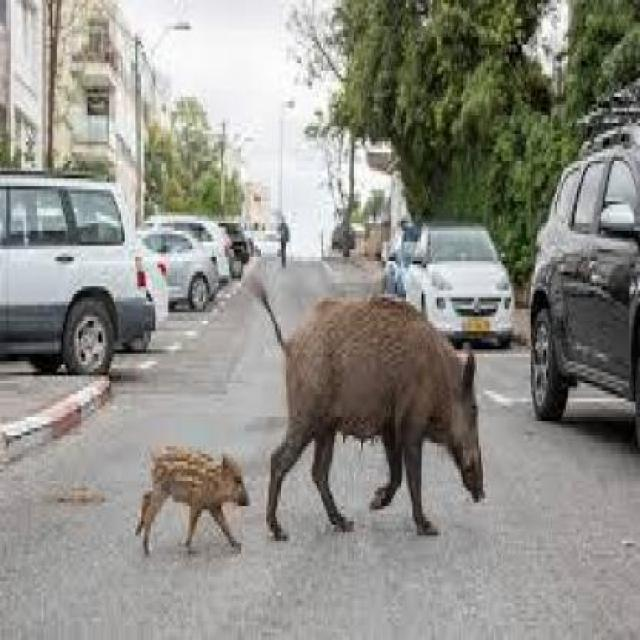wildboar: (235, 252, 493, 556), (128, 430, 257, 568)
